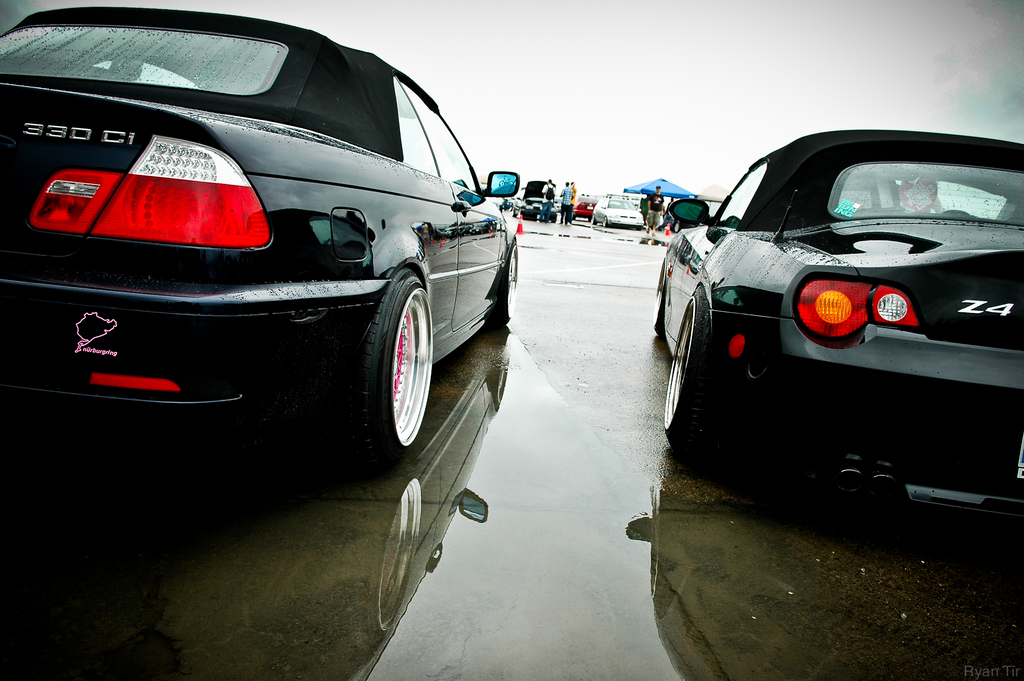mobil: (1, 5, 521, 456)
